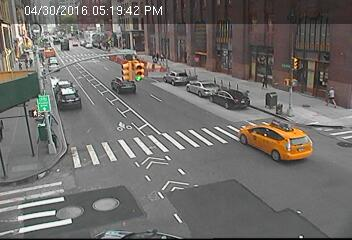neg: (37, 136, 65, 173), (30, 23, 58, 60), (251, 116, 278, 152), (219, 178, 244, 211), (29, 89, 53, 121), (52, 193, 76, 225), (128, 110, 152, 142), (162, 44, 186, 75), (196, 80, 219, 110), (109, 54, 130, 83)
pos: (324, 83, 342, 107), (256, 71, 270, 90)
